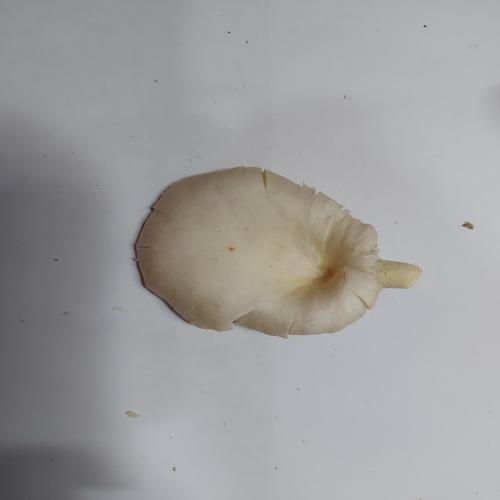Oyster Mushroom: (132, 165, 422, 339)
